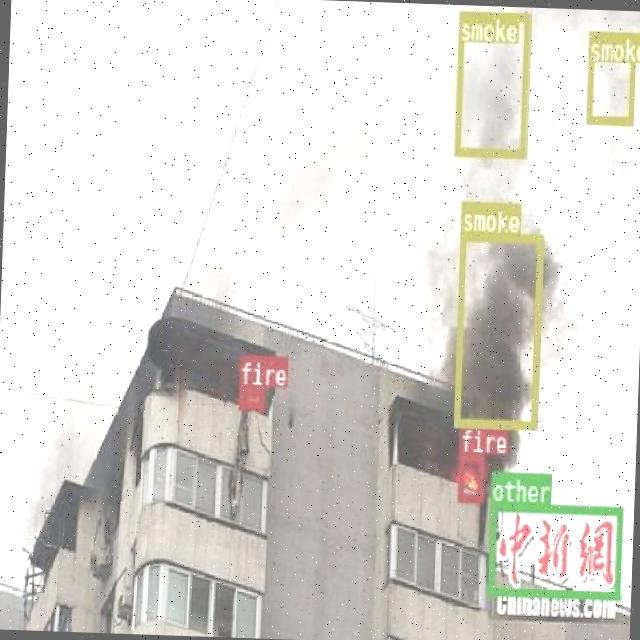fire: (456, 451, 484, 500), (236, 384, 264, 408)
smoke: (452, 230, 542, 428), (454, 11, 530, 156), (586, 30, 634, 124)
